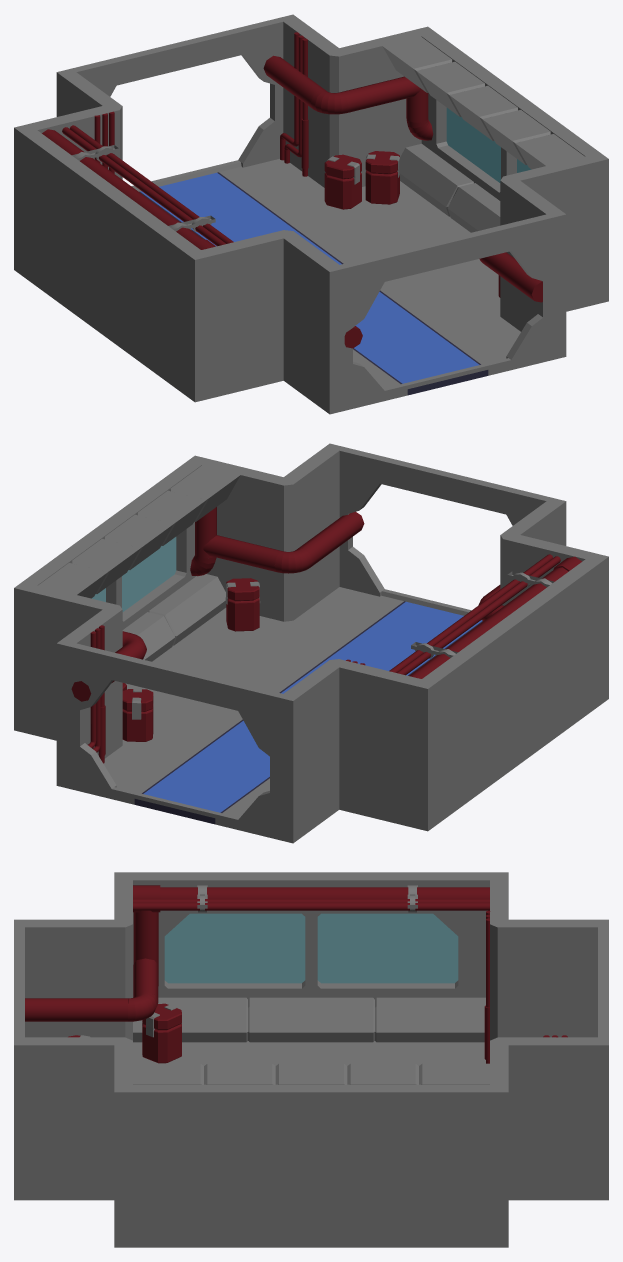
The model's file is Path_BigRoom.glb.
The picture shows the model from 3 angles, top to bottom: view 1: azimuth 30°, elevation 25°; view 2: azimuth 150°, elevation 25°; view 3: azimuth 270°, elevation 25°; orthographic projection. The views are drawn at different scales.
Visible parts, largest first — view 1: Path_BigRoom; view 2: Path_BigRoom; view 3: Path_BigRoom.
Part boxes in pixels (x1=…): Path_BigRoom: x1=14, y1=14, x2=608, y2=414; Path_BigRoom: x1=14, y1=443, x2=608, y2=843; Path_BigRoom: x1=14, y1=872, x2=608, y2=1247.
Size of the model in its own units: 14 by 4.64 by 16.
